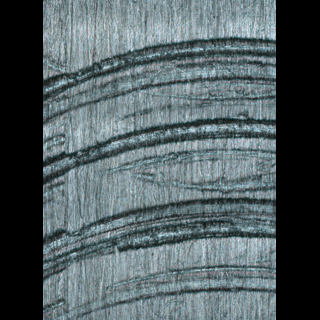d: (43, 35, 276, 309)
